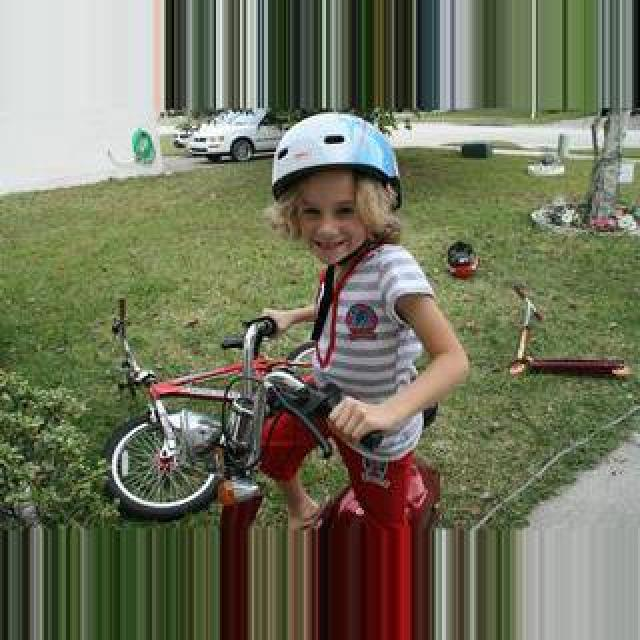Bus-Bike: (184, 108, 288, 162)
MC-Bike: (244, 108, 470, 622)
Person: (96, 312, 456, 524)
